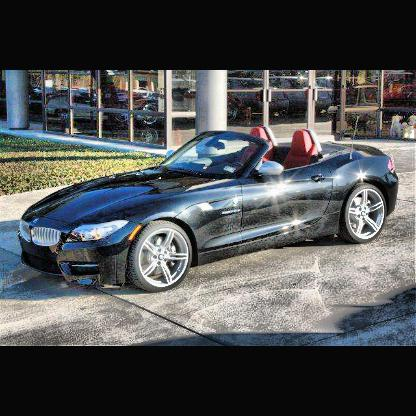BMW Z4 Convertible 2012: (21, 127, 401, 294)
